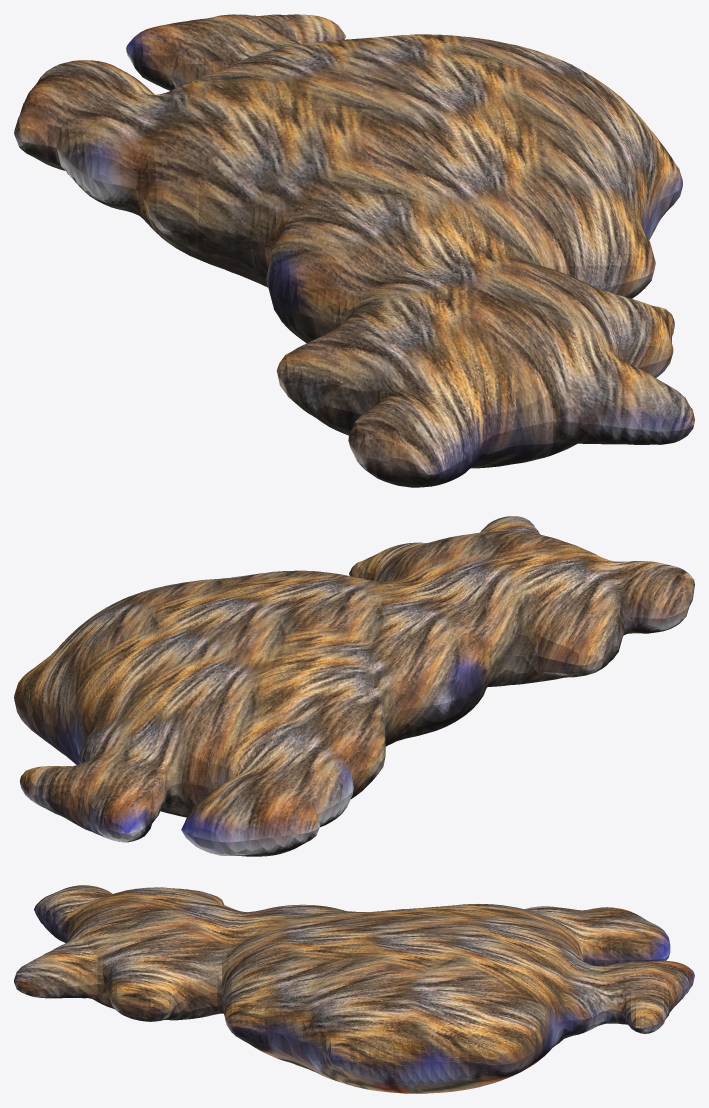
The model's file is 3Bp8babyBear3D.obj.
3 views of the same model, one above another, from view 1: azimuth 30°, elevation 25°; view 2: azimuth 150°, elevation 25°; view 3: azimuth 270°, elevation 25° (orthographic). The views are drawn at different scales.
Visible parts, largest first — view 1: Object.1; view 2: Object.1; view 3: Object.1.
Part boxes in pixels (box(x1,y1,x2,y2)): Object.1: box(14, 14, 694, 487); Object.1: box(14, 516, 694, 856); Object.1: box(14, 885, 694, 1093).
Size of the model in its own units: 0.1834 by 0.0642 by 0.3154.
Materials: 1 (1 with a texture image).
